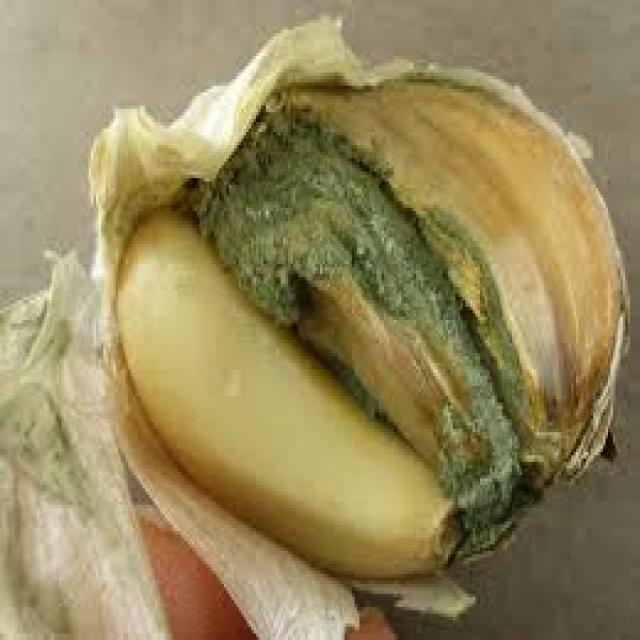Onion: (0, 15, 477, 640), (114, 17, 632, 577)
